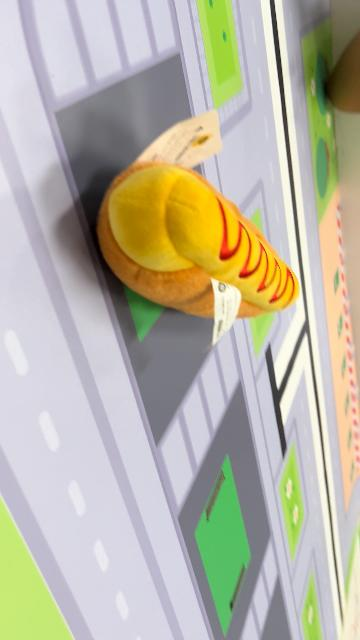hotdog: (98, 160, 300, 320)
